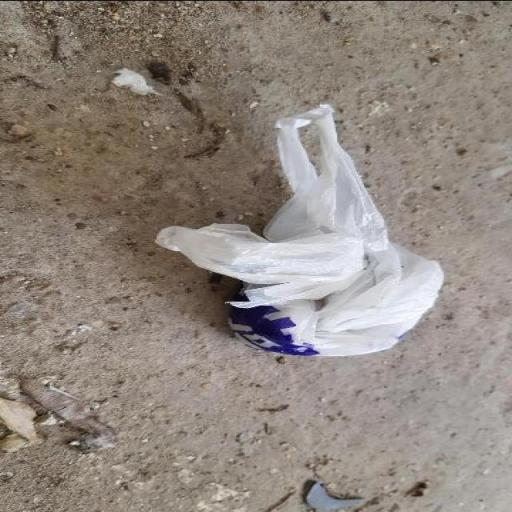plastic-bag: (152, 100, 448, 359)
